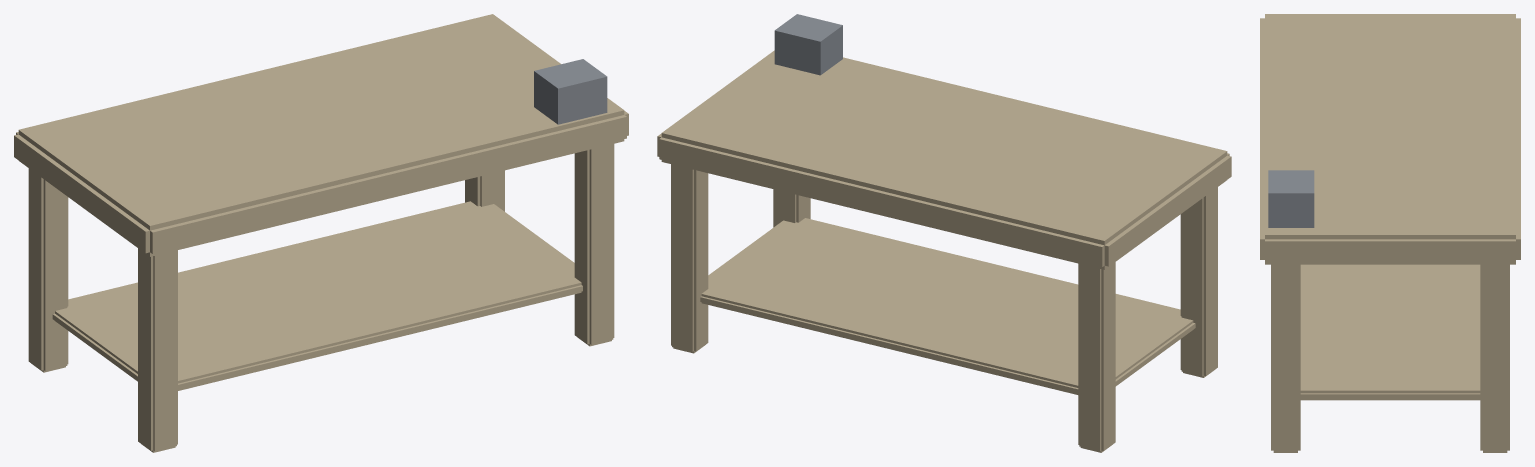
File: boreal_workbench_v0.glb
The picture shows the model from 3 angles, left to right: view 1: azimuth 30°, elevation 25°; view 2: azimuth 150°, elevation 25°; view 3: azimuth 270°, elevation 25°; orthographic projection. The views are drawn at different scales.
Visible parts, largest first — view 1: boreal_workbench_v0; view 2: boreal_workbench_v0; view 3: boreal_workbench_v0.
Boxes of the visible parts, x1=… form: boreal_workbench_v0: x1=14, y1=14, x2=628, y2=452; boreal_workbench_v0: x1=657, y1=14, x2=1231, y2=452; boreal_workbench_v0: x1=1260, y1=14, x2=1520, y2=452.
Bounding box in the file's own units: 1.96 × 1.04 × 0.96.
